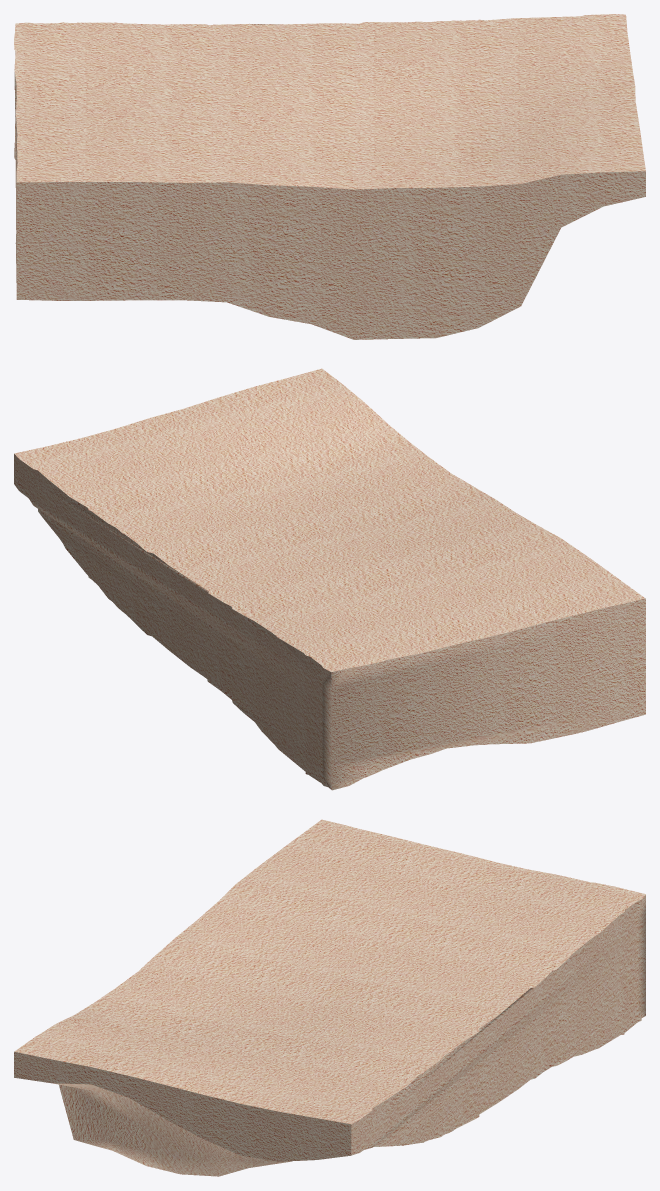
3 renders of one model, top to bottom at view 1: azimuth 30°, elevation 25°; view 2: azimuth 150°, elevation 25°; view 3: azimuth 270°, elevation 25°, orthographic. The views are drawn at different scales.
Parts seen in each view (by area): view 1: E; view 2: E; view 3: E.
Part boxes in pixels (x1,y1,x2,y2): E: (14, 14, 645, 339); E: (14, 368, 645, 790); E: (14, 819, 645, 1176).
Bounding box in the file's own units: 1718 × 456 × 1480.
1 material, 1 textured.
